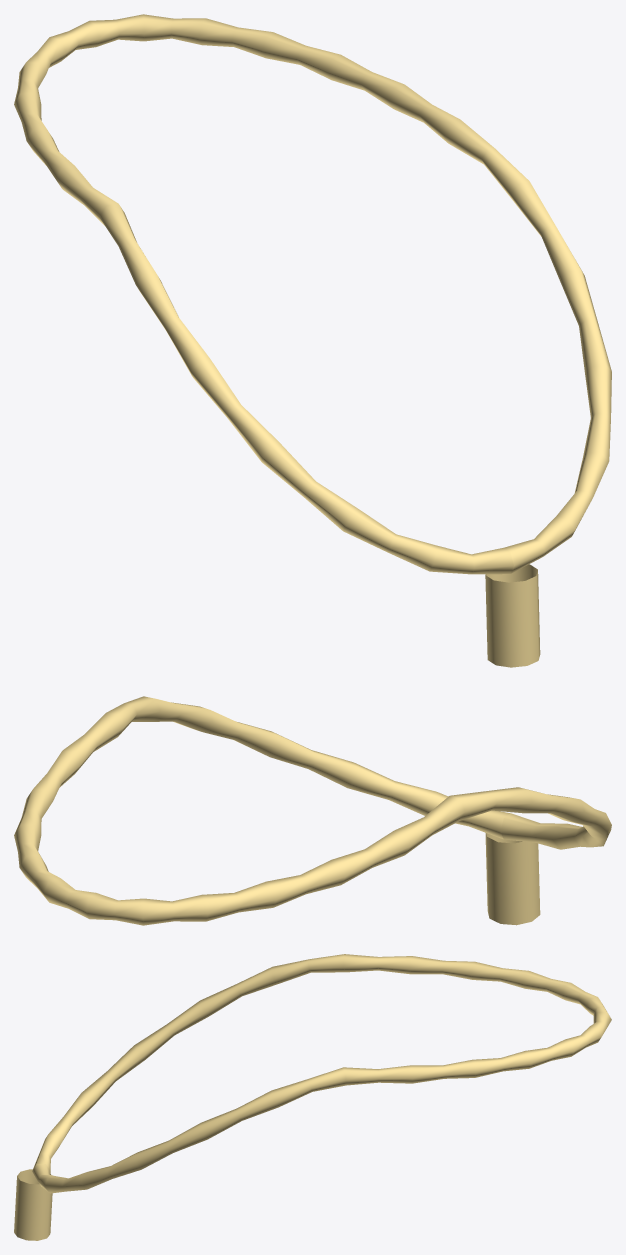
File: corrente_ouro.glb
3 renders of one model, top to bottom at view 1: azimuth 30°, elevation 25°; view 2: azimuth 150°, elevation 25°; view 3: azimuth 270°, elevation 25°, orthographic. The views are drawn at different scales.
Parts seen in each view (by area): view 1: corrente_ouro; view 2: corrente_ouro; view 3: corrente_ouro.
Part boxes in pixels (left/top/right/bottom): corrente_ouro: left=14, top=14, right=611, bottom=667; corrente_ouro: left=14, top=696, right=611, bottom=925; corrente_ouro: left=14, top=954, right=611, bottom=1240.
Size of the model in its own units: 0.2043 by 0.1608 by 0.3935.
